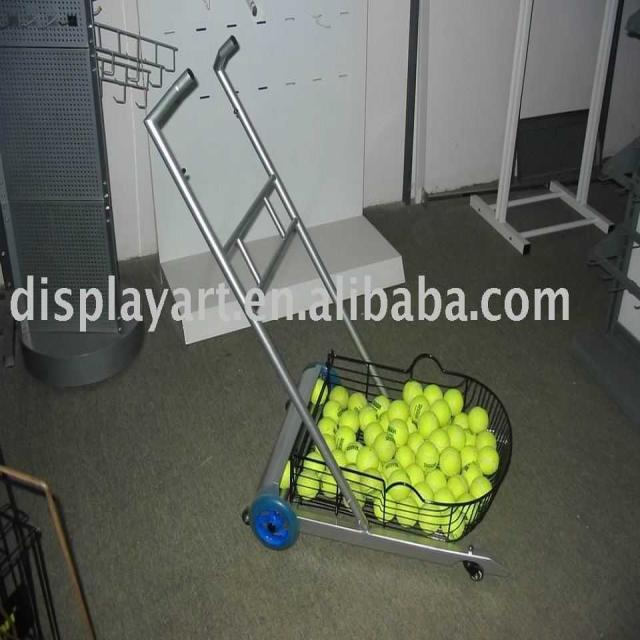Tennis_Ball: (419, 504, 440, 534), (377, 492, 398, 521), (355, 445, 378, 471), (387, 419, 407, 448), (411, 480, 435, 503), (398, 498, 417, 526), (376, 432, 395, 460), (361, 470, 380, 498), (418, 444, 437, 471), (389, 469, 408, 495), (472, 477, 491, 502), (417, 412, 438, 434), (358, 404, 378, 427), (396, 446, 416, 469), (409, 396, 429, 419), (445, 510, 462, 537), (296, 470, 314, 495), (457, 493, 478, 514), (477, 449, 496, 472), (432, 399, 450, 423), (320, 467, 336, 494), (469, 408, 486, 433), (402, 382, 423, 402), (347, 393, 368, 412), (448, 475, 470, 493), (430, 490, 454, 506), (342, 410, 358, 434), (440, 446, 454, 473), (405, 464, 426, 482), (447, 426, 464, 448), (447, 391, 464, 413), (332, 385, 348, 408), (390, 400, 408, 420), (428, 468, 446, 487), (422, 385, 442, 402), (322, 400, 339, 420), (304, 453, 324, 470), (460, 445, 474, 468), (337, 428, 354, 445), (318, 435, 336, 451), (316, 418, 334, 434), (476, 431, 493, 447), (373, 397, 390, 412), (432, 428, 445, 444)
